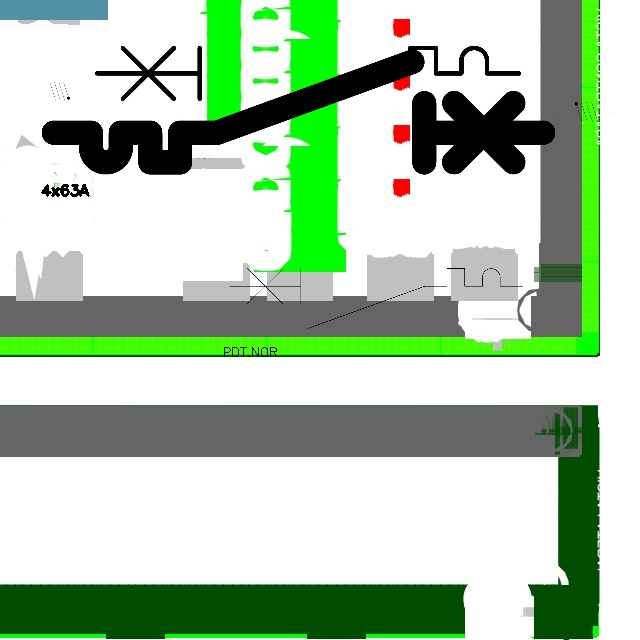interruptor_termomagnetico: (41, 49, 556, 175), (86, 37, 529, 145), (222, 261, 530, 336)
